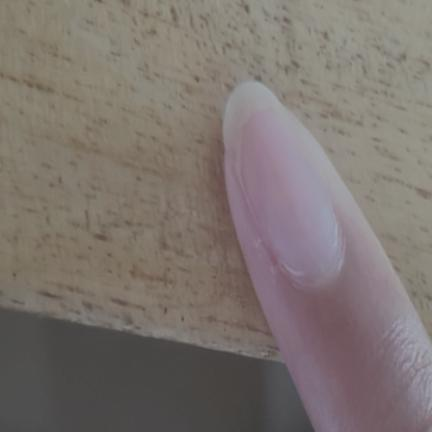Nail: (222, 81, 344, 285)
